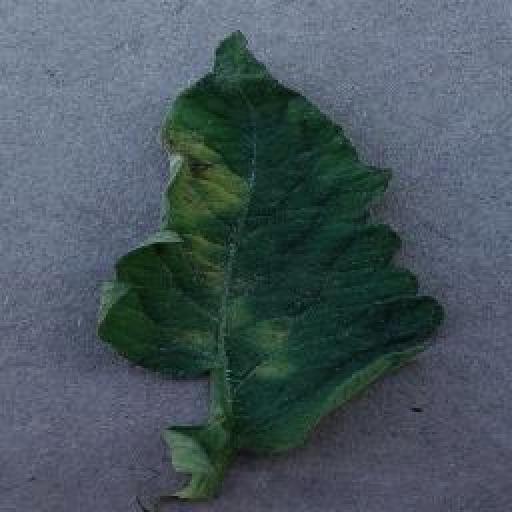disease_tomato: (100, 26, 446, 454)
